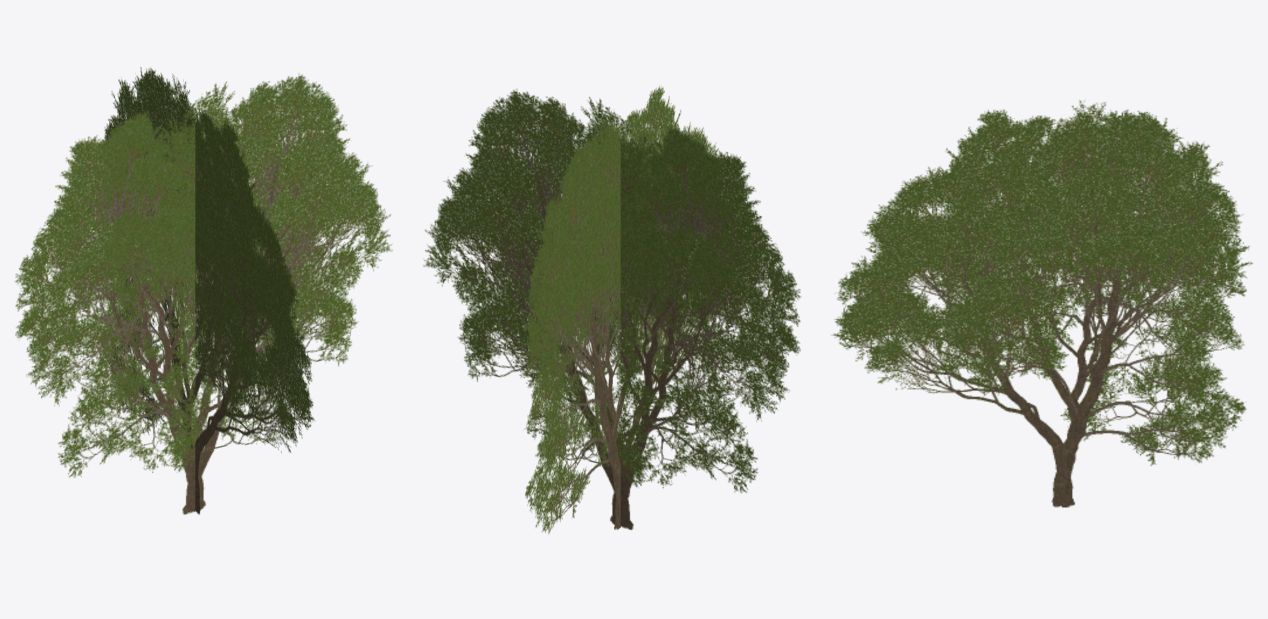
The model's file is SalixAlba.glb.
3 renders of one model, left to right at view 1: azimuth 30°, elevation 25°; view 2: azimuth 150°, elevation 25°; view 3: azimuth 270°, elevation 25°, orthographic. The views are drawn at different scales.
Visible parts, largest first — view 1: mesh__mat_billboard_10; view 2: mesh__mat_billboard_10; view 3: mesh__mat_billboard_10.
Part boxes in pixels (box(x1,y1,x2,y2)): mesh__mat_billboard_10: box(15, 67, 392, 514); mesh__mat_billboard_10: box(423, 86, 800, 533); mesh__mat_billboard_10: box(831, 100, 1252, 507).
Size of the model in its own units: 20.63 by 22.3 by 20.74.
Materials: 1 (1 with a texture image).
